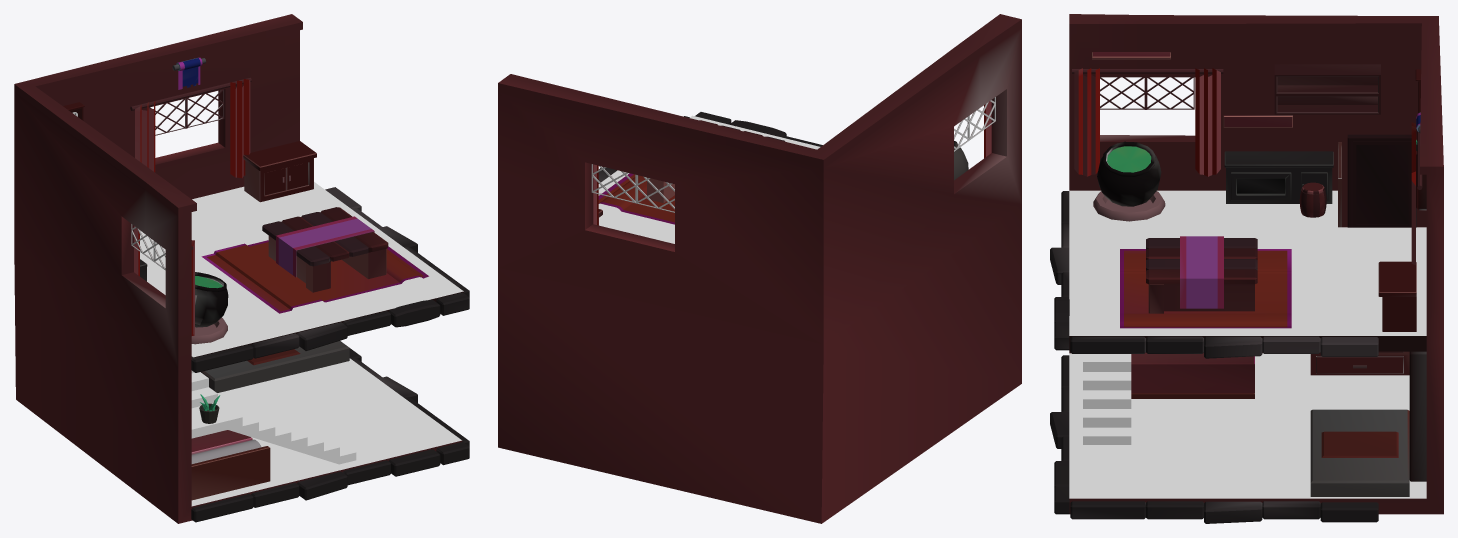
File: st_environment.fbx
3 renders of one model, left to right at view 1: azimuth 30°, elevation 25°; view 2: azimuth 150°, elevation 25°; view 3: azimuth 270°, elevation 25°, orthographic. The views are drawn at different scales.
Parts seen in each view (by area): view 1: st_floor_03, st_floor_01, st_floor_04, st_table_01, st_carpet_02, st_floor_02.001, st_floor_02.003, st_cornise_01, st_bad_01, st_stairs_01, st_tumb_01, st_altar_01 (+6 smaller); view 2: st_floor_03, st_floor_01, st_carpet_02, st_cornise_01, st_cornise_01.001, st_floor_02.001; view 3: st_floor_03, st_floor_04, st_floor_01, st_table_01, st_cornise_01.001, st_carpet_02, st_altar_01, st_floor_02.004, st_door_01, st_floor_02.002, st_kitchen_01, st_bad_01 (+14 smaller).
Boxes of the visible parts, x1,y1,x2,y2 form: st_floor_03: [14, 14, 462, 523]; st_floor_01: [140, 182, 463, 357]; st_floor_04: [191, 358, 461, 506]; st_table_01: [262, 207, 388, 292]; st_carpet_02: [201, 240, 428, 313]; st_floor_02.001: [191, 292, 469, 372]; st_floor_02.003: [191, 442, 469, 522]; st_cornise_01: [130, 77, 251, 178]; st_bad_01: [191, 430, 270, 500]; st_stairs_01: [191, 401, 356, 464]; st_tumb_01: [243, 141, 316, 202]; st_altar_01: [201, 341, 349, 392]; st_floor_03: [498, 14, 1021, 523]; st_floor_01: [598, 115, 820, 243]; st_carpet_02: [598, 173, 674, 224]; st_cornise_01: [591, 164, 674, 225]; st_cornise_01.001: [954, 97, 995, 158]; st_floor_02.001: [695, 112, 822, 146]; st_floor_03: [1069, 14, 1443, 514]; st_floor_04: [1069, 353, 1426, 498]; st_floor_01: [1069, 190, 1426, 335]; st_table_01: [1146, 236, 1257, 313]; st_cornise_01.001: [1072, 68, 1223, 176]; st_carpet_02: [1120, 249, 1291, 328]; st_altar_01: [1310, 409, 1409, 496]; st_floor_02.004: [1070, 501, 1378, 523]; st_door_01: [1347, 134, 1416, 227]; st_floor_02.002: [1070, 336, 1378, 358]; st_kitchen_01: [1274, 64, 1380, 114]; st_bad_01: [1131, 352, 1254, 398].
Bounding box in the file's own units: 4.46 × 4.58 × 4.48.
